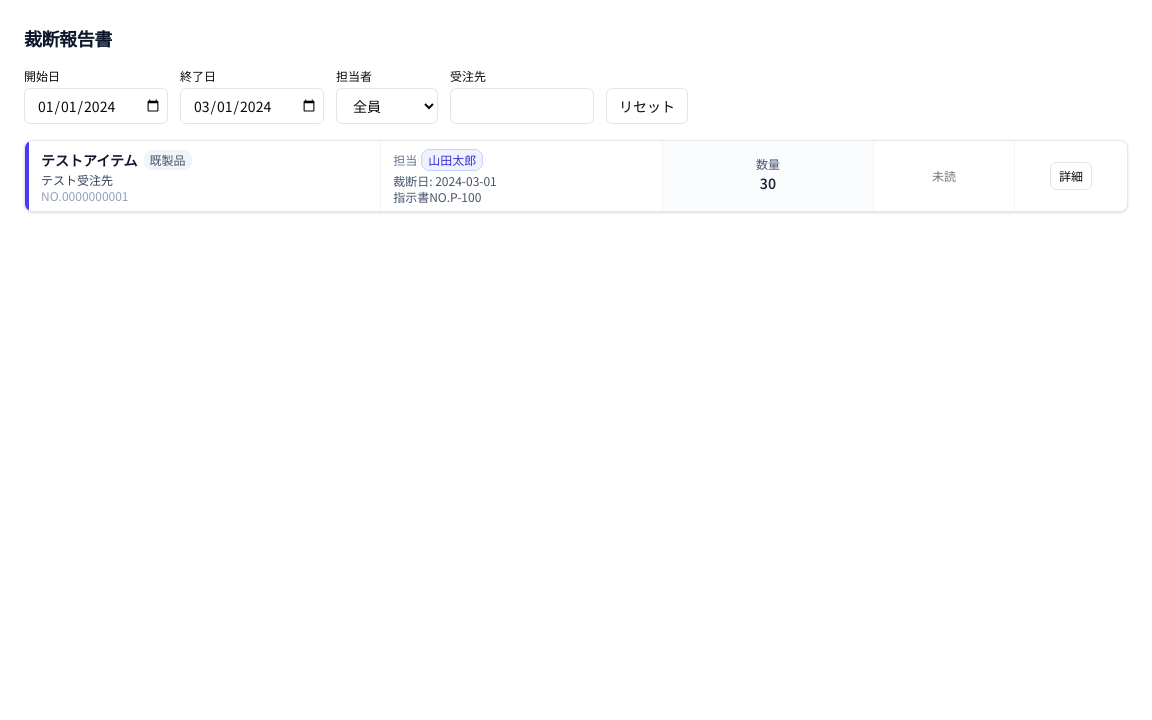
Test: CuttingReportListTable › 更新に成功すると編集フォームと詳細ダイアログの両方が閉じる
The image size is (1152, 720).
Click the button "詳細" at (1071, 176), box [1050,162,1092,190]
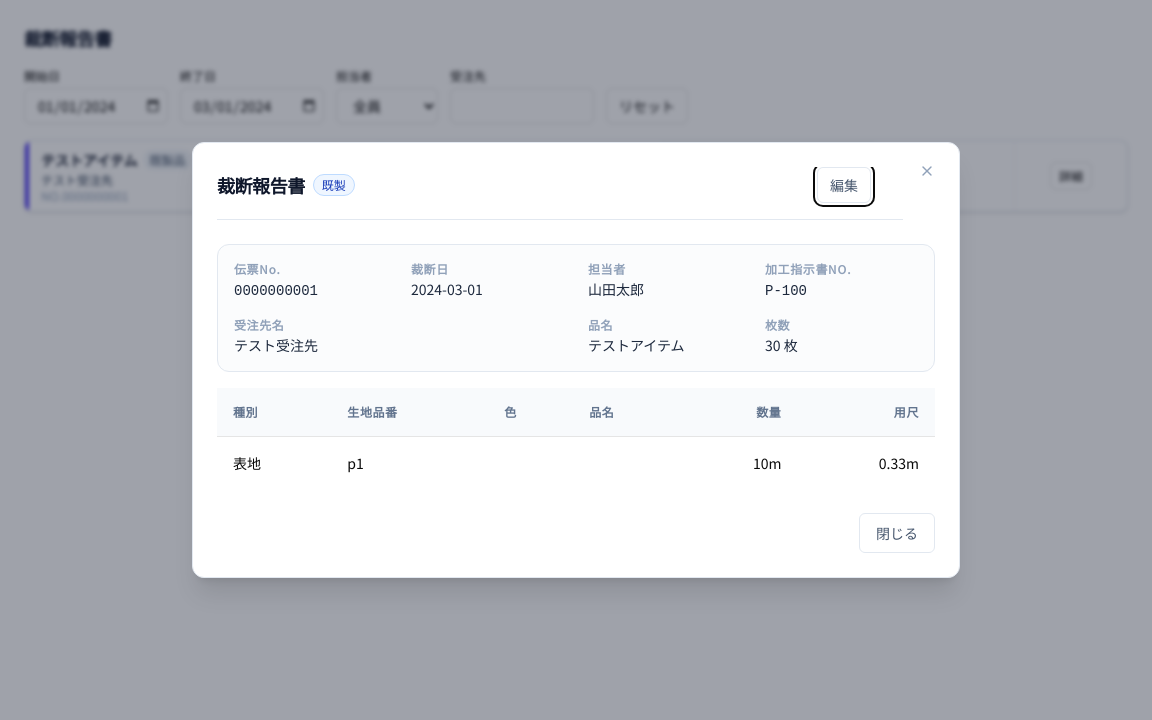
Click the button "編集" at (844, 185), box [817,167,871,203]
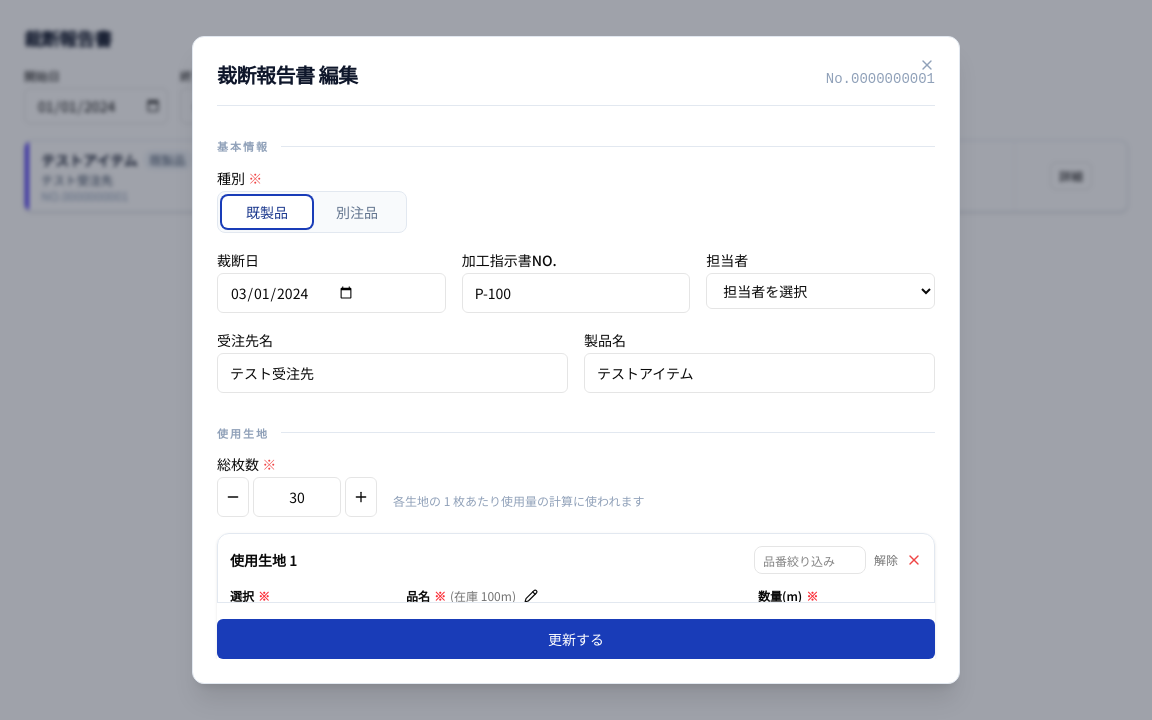
Click the button "更新する" at (576, 639), box [217,619,935,659]
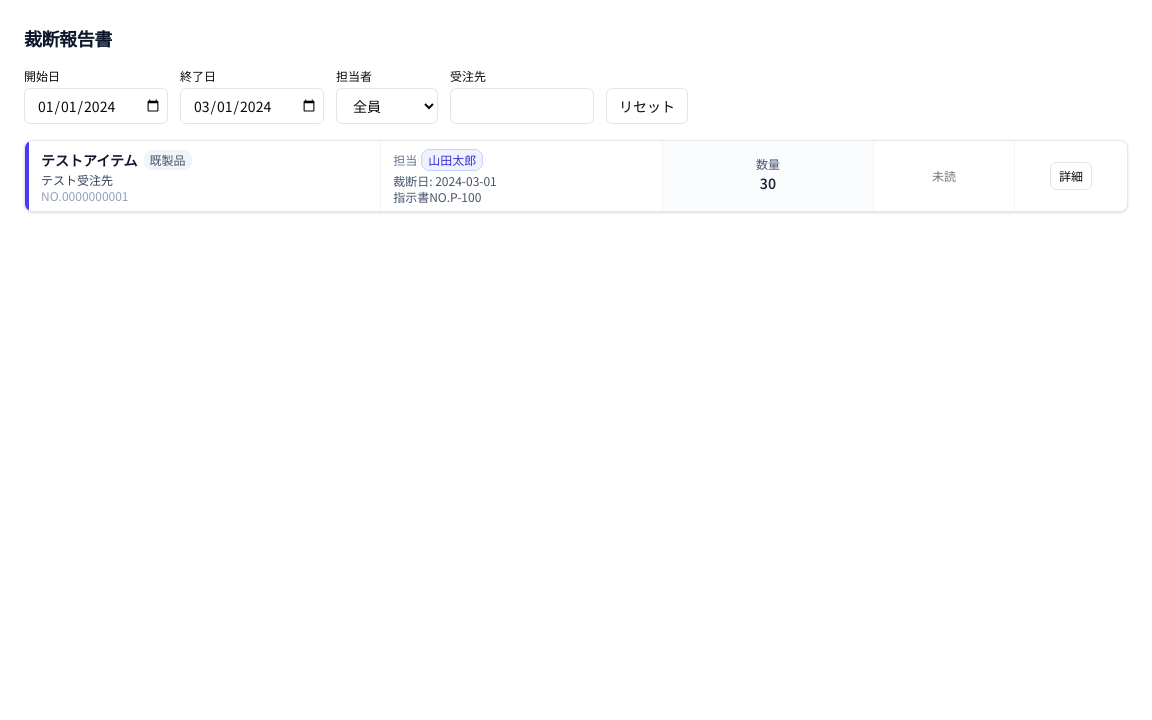
expect the button "閉じる" is not shown: met
expect the heading "裁断報告書 編集" is gone: met
